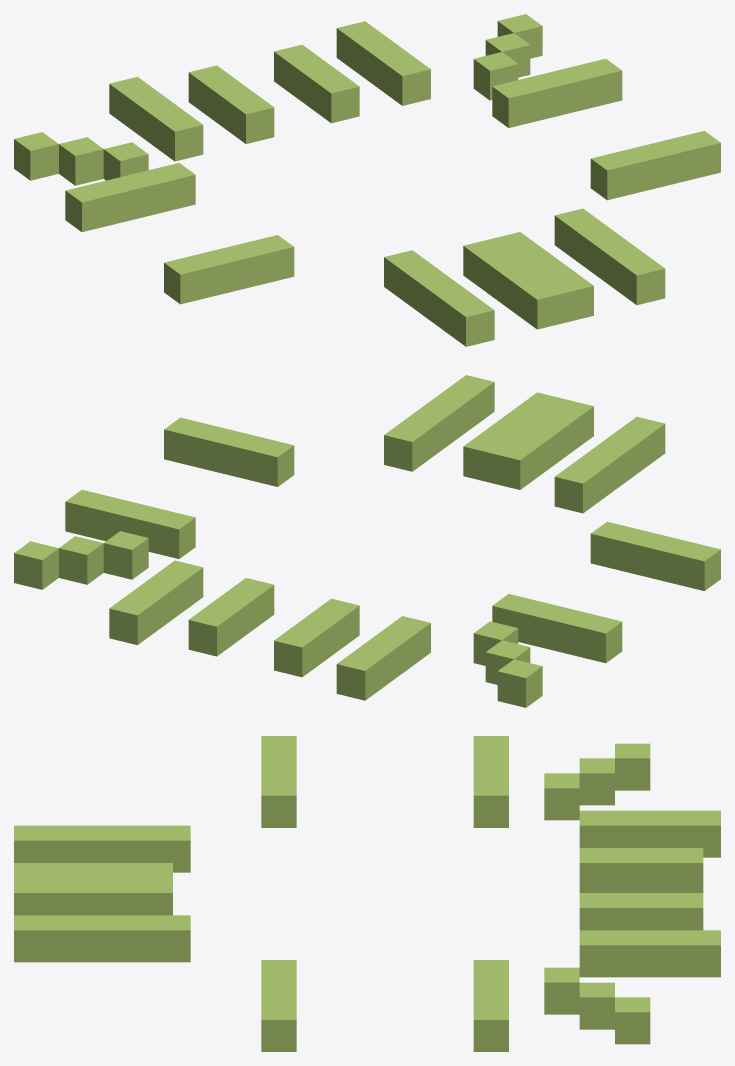
The model's file is seams_back.glb.
The picture shows the model from 3 angles, top to bottom: view 1: azimuth 30°, elevation 25°; view 2: azimuth 150°, elevation 25°; view 3: azimuth 270°, elevation 25°; orthographic projection. The views are drawn at different scales.
Bounding box in the file's own units: 38 × 2 × 40.
